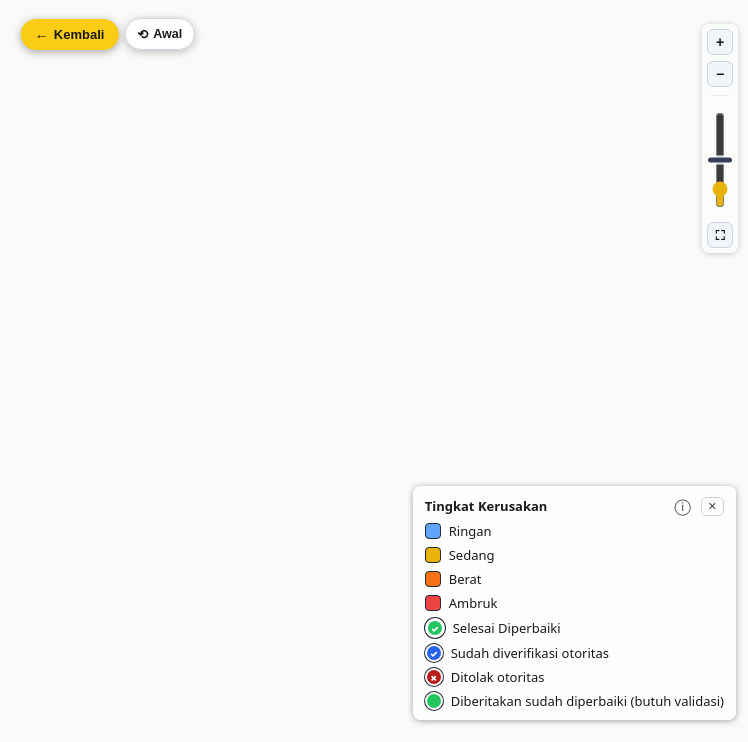
Scenario: MapView: navigasi bertahap (poin Alur Inti 17) › tombol Awal: fitBounds seluruh Indonesia (Sumatera–Papua utuh) + bersihkan riwayat
Click the button "⟲ Awal": x=160, y=34 [124, 18, 195, 50]
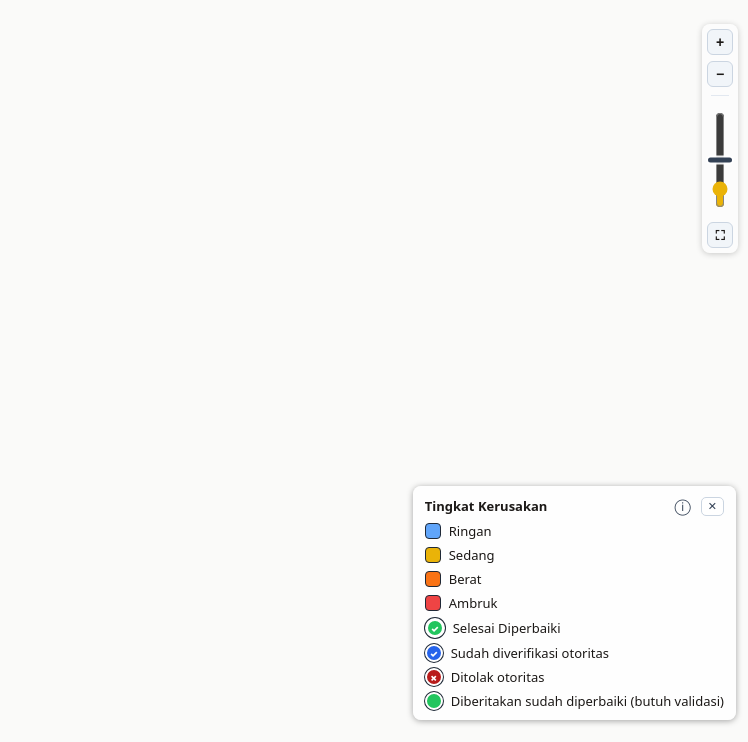
Check: the button "Kembali" is gone
